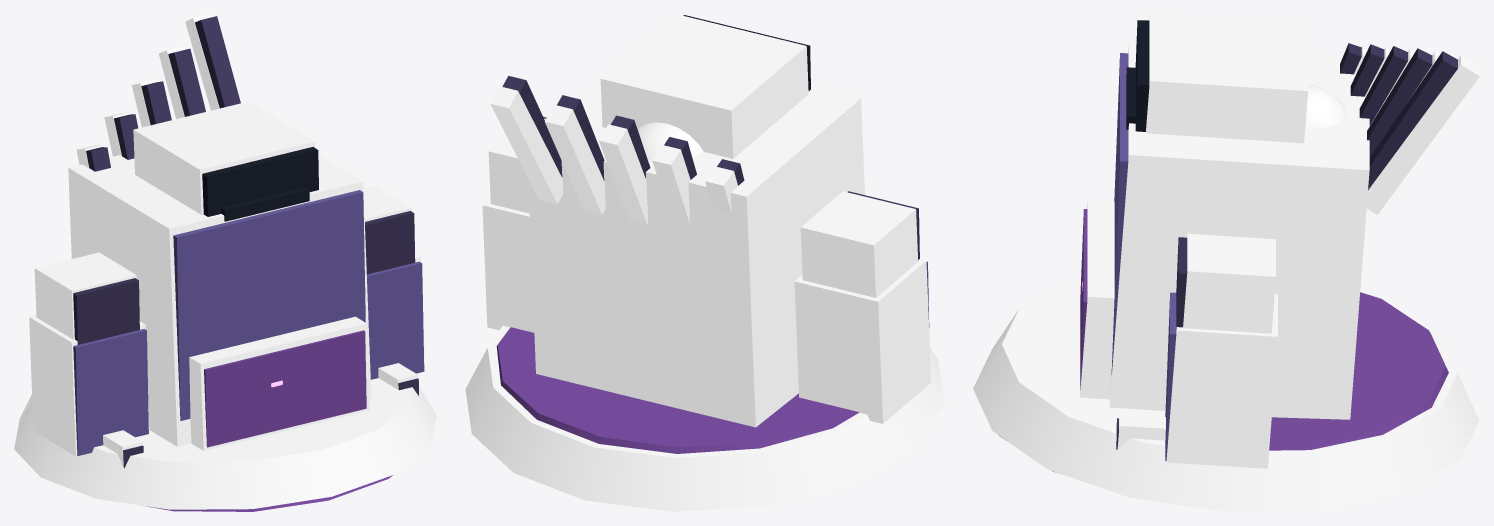
Rendered from boss_broodmaker.glb.
3 views of the same model, side by side, from view 1: azimuth 30°, elevation 25°; view 2: azimuth 150°, elevation 25°; view 3: azimuth 270°, elevation 25° (orthographic). The views are drawn at different scales.
Size of the model in its own units: 4.16 by 4.05 by 4.15.
